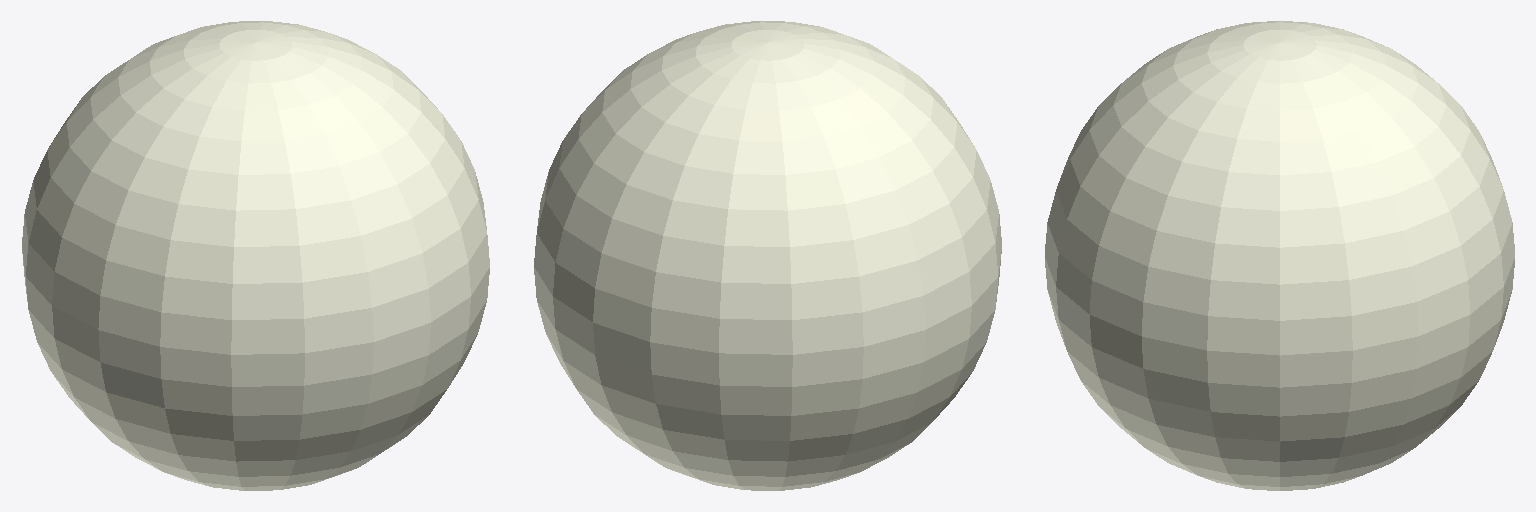
The picture shows the model from 3 angles: view 1: azimuth 30°, elevation 25°; view 2: azimuth 150°, elevation 25°; view 3: azimuth 270°, elevation 25°; orthographic projection.
Parts seen in each view (by area): view 1: pSphere1; view 2: pSphere1; view 3: pSphere1.
Part boxes in pixels (bbox=[...]): pSphere1: bbox=[22, 21, 489, 490]; pSphere1: bbox=[534, 21, 1001, 490]; pSphere1: bbox=[1045, 21, 1514, 490].
Bounding box in the file's own units: 3.23 × 3.23 × 3.23.
1 materials, 1 textured.